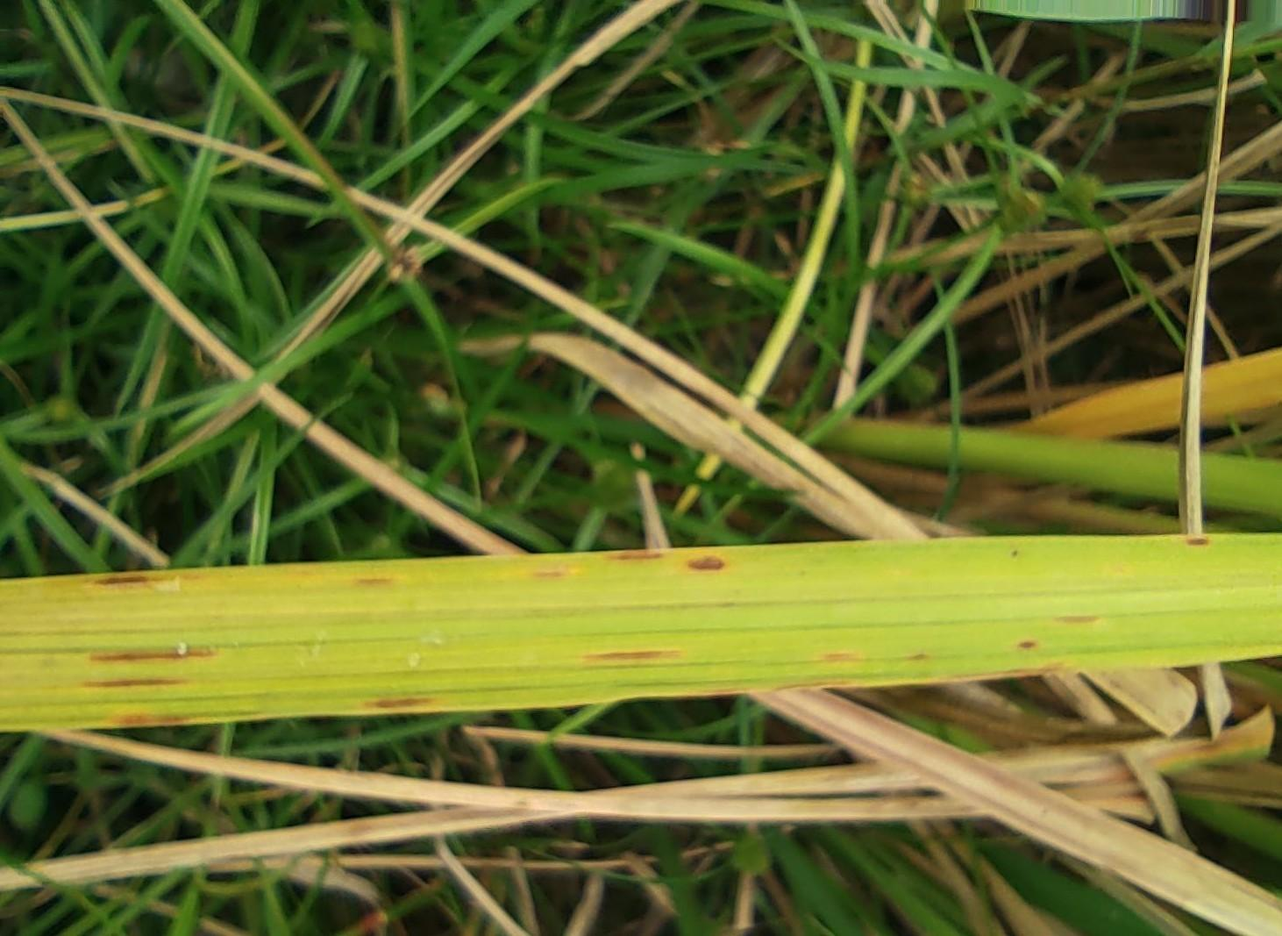LEAF: (0, 532, 1281, 731)
NBS: (936, 663, 1078, 681), (87, 650, 216, 660), (102, 715, 194, 727), (90, 574, 172, 585), (80, 679, 192, 687), (583, 651, 681, 660), (357, 698, 435, 708), (775, 680, 854, 689), (602, 551, 664, 560), (687, 556, 724, 570), (818, 651, 861, 662), (1050, 616, 1100, 624), (689, 688, 754, 694), (535, 571, 568, 579), (356, 578, 392, 585), (1186, 536, 1209, 546), (1017, 640, 1037, 649), (911, 652, 929, 661)
